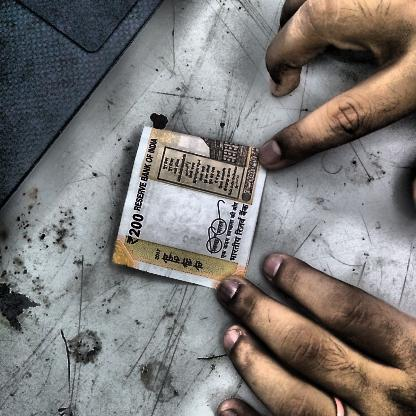Rs200: (123, 210, 149, 249)
